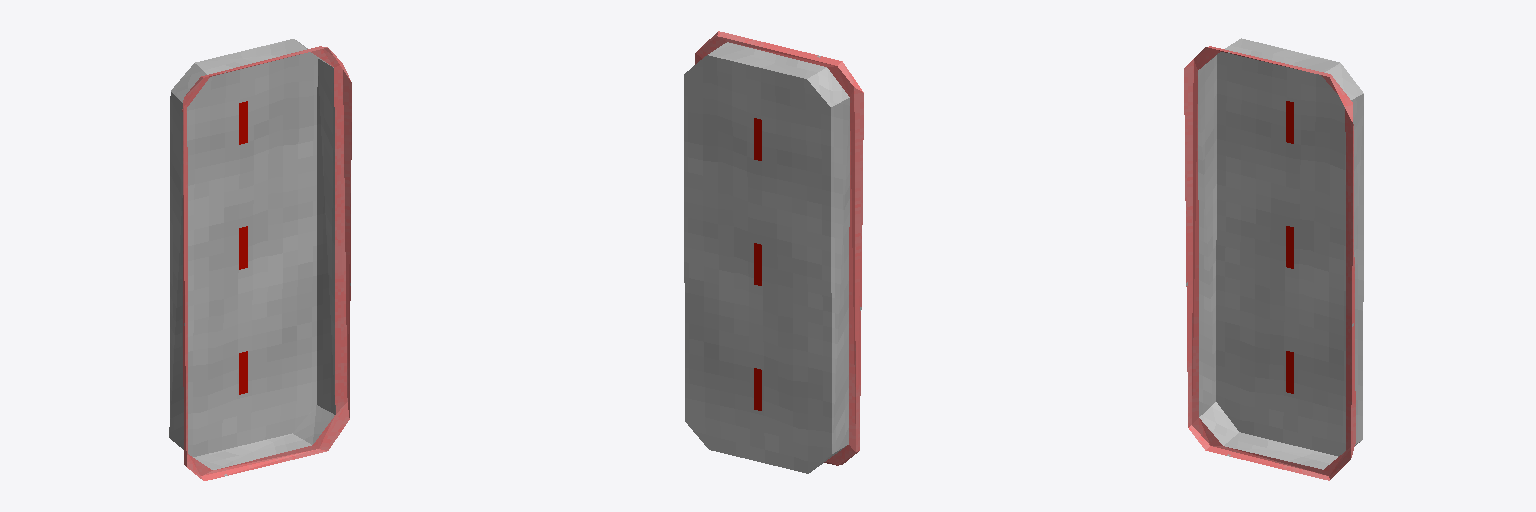
3 views of the same model, side by side, from view 1: azimuth 30°, elevation 25°; view 2: azimuth 150°, elevation 25°; view 3: azimuth 330°, elevation 25° (orthographic).
Visible parts, largest first — view 1: Cube; view 2: Cube; view 3: Cube.
Part boxes in pixels (bbox=[...]): Cube: bbox=[169, 39, 351, 480]; Cube: bbox=[684, 31, 863, 473]; Cube: bbox=[1184, 38, 1363, 480].
Size of the model in its own units: 0.4259 by 0.9691 by 0.0981.
Materials: 5 (2 with a texture image).